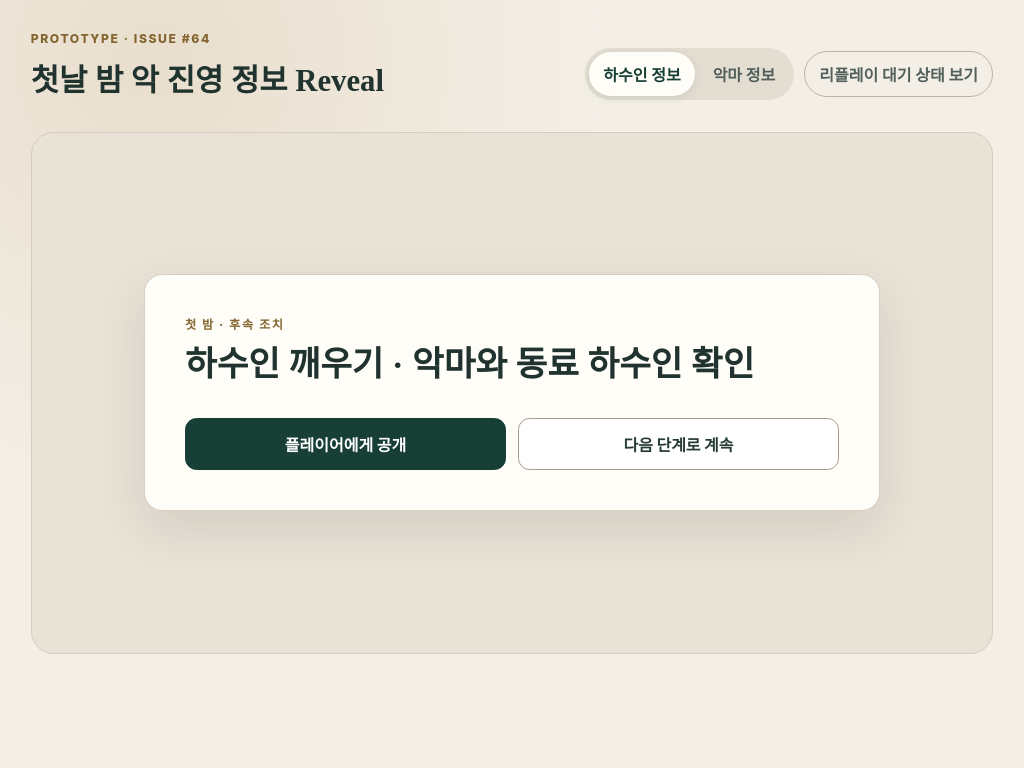
Test: renders Demon bluffs with official CharacterIcon assets without exposing Minion roles
Click the button "악마 정보": (744, 74) [698,52,790,96]
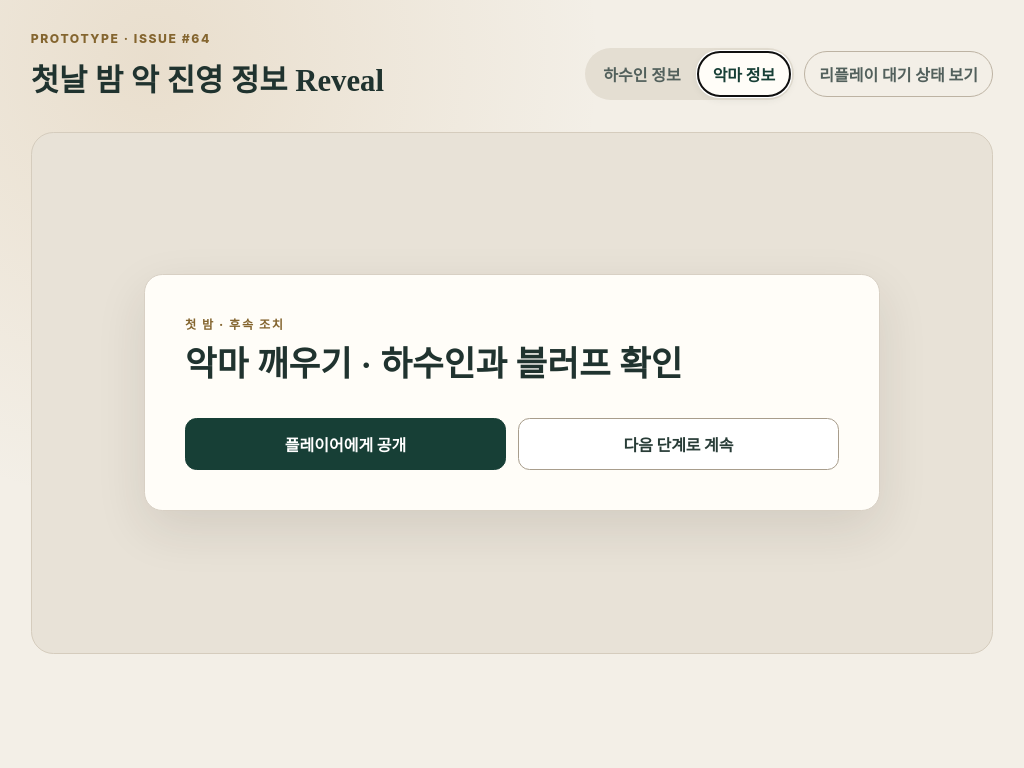
Expected: the heading "악마 깨우기 · 하수인과 블러프 확인" is shown, [185,345,682,383]
Click the button "플레이어에게 공개": (346, 444) [185,418,506,470]
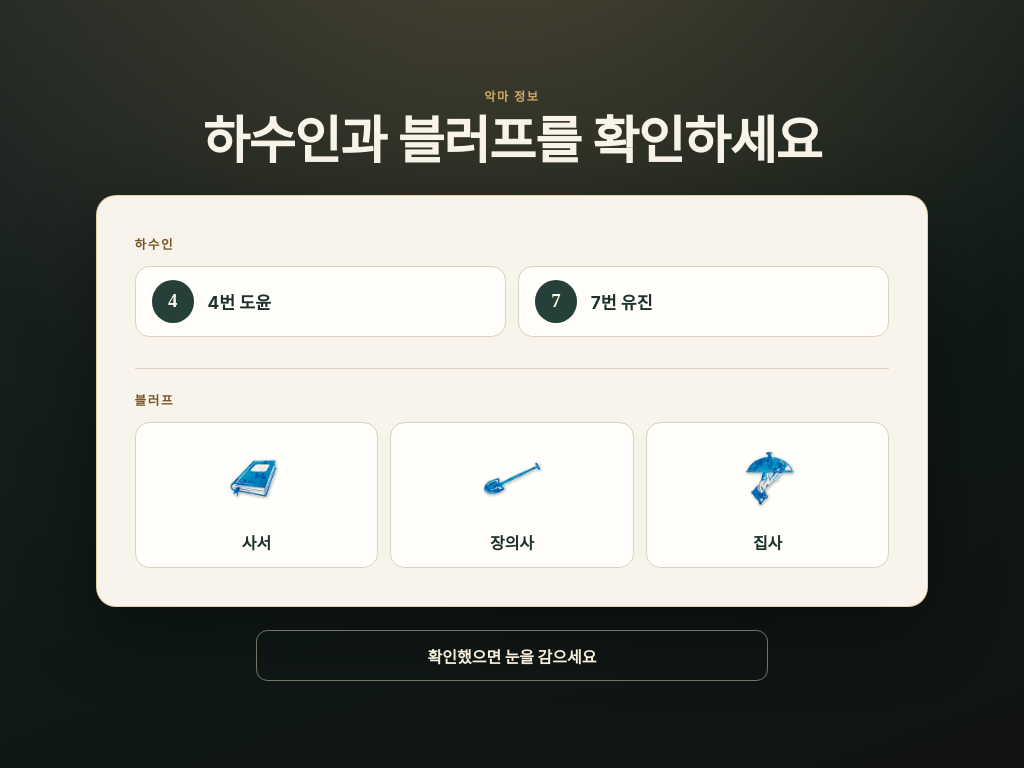
Expected: the heading "하수인과 블러프를 확인하세요" is shown, [203,113,821,172]
Expected: the text "4번 도윤" is shown, [208,289,271,314]
Expected: the text "7번 유진" is shown, [591,289,652,314]
